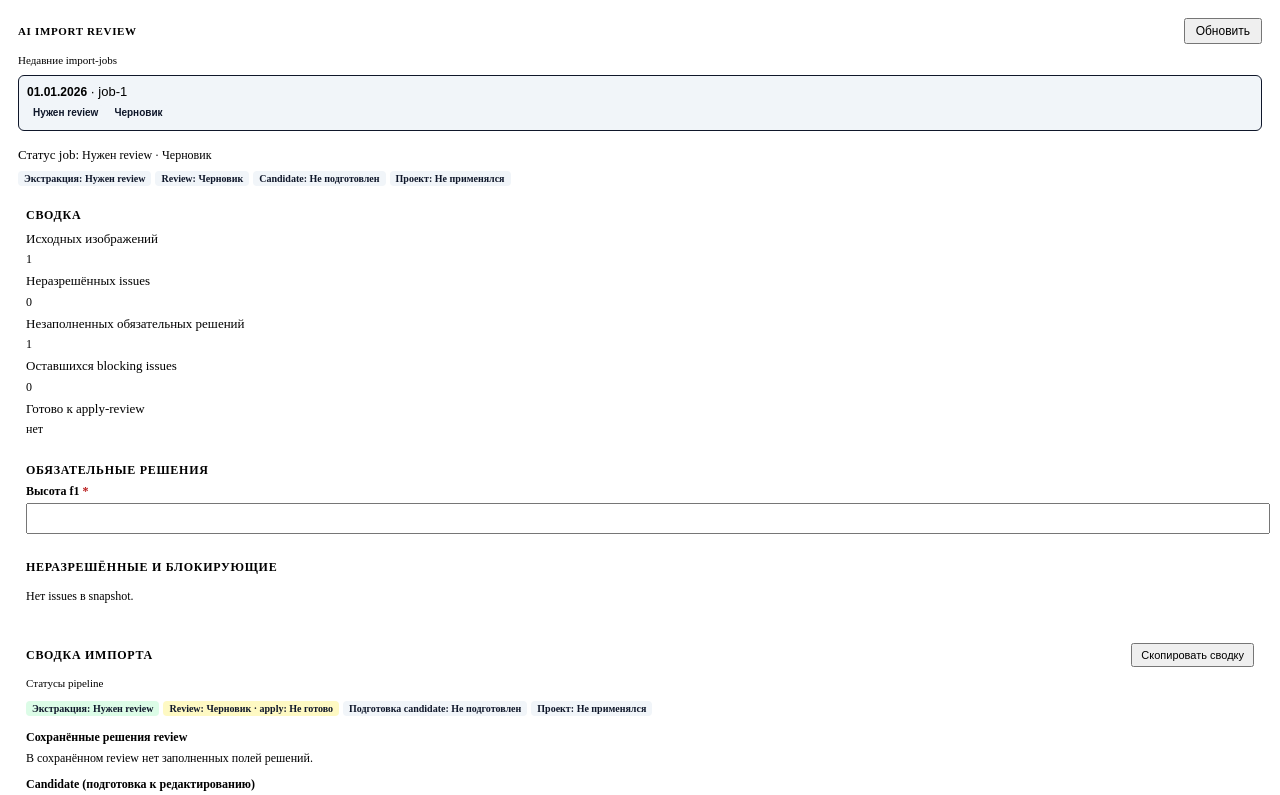
Test: ImportReviewPanelView › копирование сводки: clipboard получает текст со «Сводка AI-импорта»
Click the button with test id "ir-summary-copy" at (1193, 655), box [1131, 643, 1254, 667]
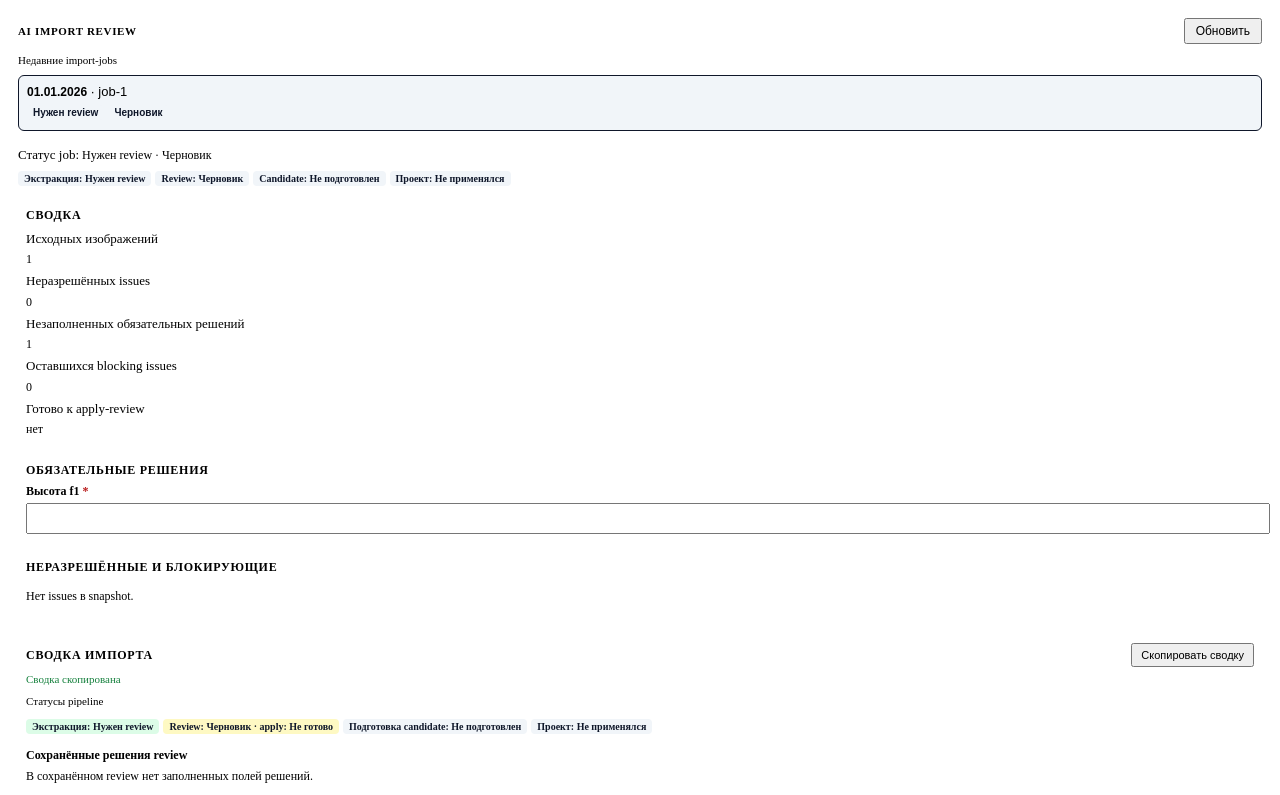
Check: the text with test id "ir-summary-copy-feedback" reads "Сводка скопирована", box [26, 673, 121, 685]
